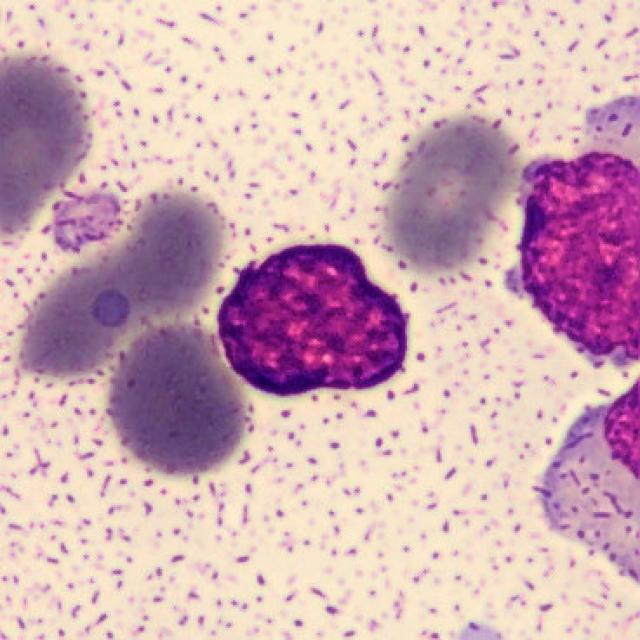Linfocito: (216, 242, 409, 398)
